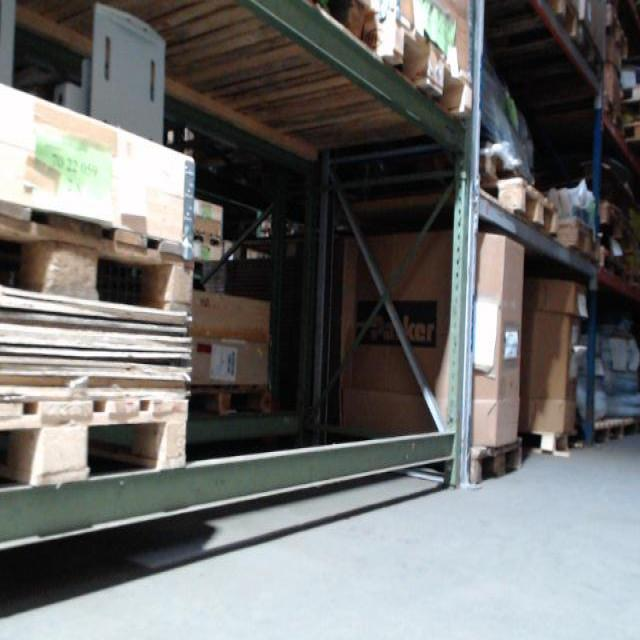pallet: (0, 199, 196, 315), (0, 397, 187, 491), (363, 0, 474, 120), (481, 175, 558, 238), (186, 382, 273, 418), (469, 437, 522, 485), (554, 214, 599, 266), (577, 18, 605, 83), (520, 427, 577, 455), (604, 3, 629, 61), (603, 97, 624, 136), (192, 229, 223, 249)
